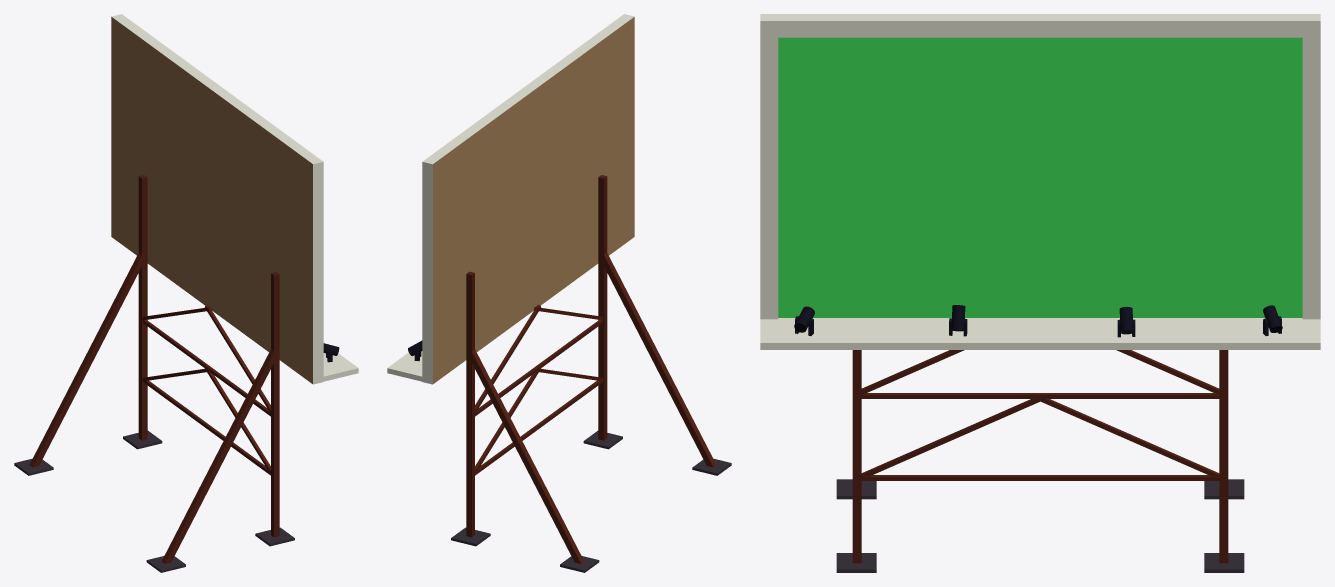
Rendered from billboardForPersonalSite.glb.
3 renders of one model, left to right at view 1: azimuth 30°, elevation 25°; view 2: azimuth 150°, elevation 25°; view 3: azimuth 270°, elevation 25°, orthographic. The views are drawn at different scales.
Visible parts, largest first — view 1: Cube, Cube.002, Cube.004, Cube.003, Cube.005, Cube.001; view 2: Cube, Cube.002, Cube.004, Cube.003, Cube.005, Cube.001; view 3: Cube, Cube.001, Cube.002, Cube.004, Cube.003, Cube.005.
Part boxes in pixels (x1,y1,x2,y2): Cube: (111, 14, 323, 384); Cube.002: (14, 175, 294, 572); Cube.004: (142, 305, 270, 474); Cube.003: (143, 320, 270, 416); Cube.005: (143, 380, 270, 475); Cube.001: (323, 343, 358, 381); Cube: (422, 14, 634, 384); Cube.002: (451, 175, 731, 572); Cube.004: (475, 305, 603, 474); Cube.003: (475, 320, 602, 416); Cube.005: (475, 380, 602, 475); Cube.001: (387, 351, 422, 381); Cube: (760, 14, 1320, 319); Cube.001: (760, 318, 1320, 349); Cube.002: (836, 350, 1244, 572); Cube.004: (861, 350, 1219, 476); Cube.003: (861, 393, 1219, 398); Cube.005: (861, 475, 1219, 480).
Size of the model in its own units: 9.07 by 20.29 by 18.64.
